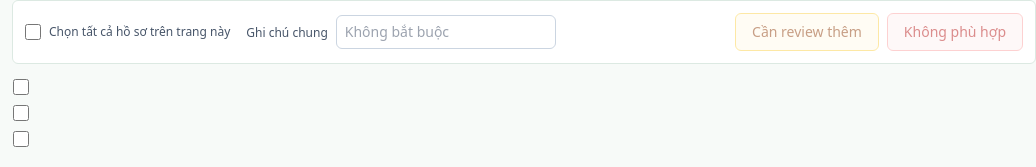
bulk selection UX › never leaves the header checked while zero rows are selected
The width and height of the screenshot is (1036, 167).
Click the checkbox with test id "bulk-select-all". click: x=33, y=32
box: top-left (25, 24), bottom-right (41, 40)
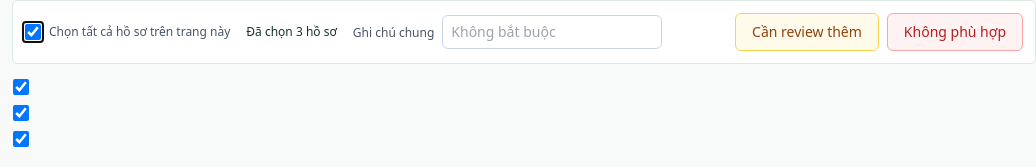
Click the checkbox named "Chọn hồ sơ 00000001". click: x=21, y=87
box: top-left (13, 79), bottom-right (29, 95)
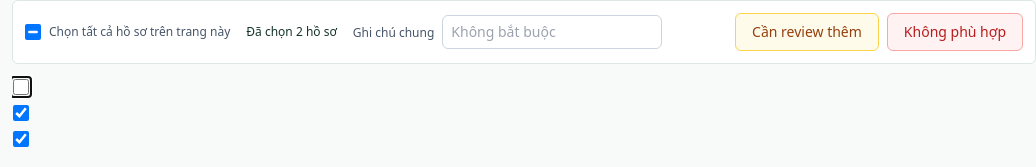
Click the checkbox named "Chọn hồ sơ 00000002". click: x=21, y=113
box: top-left (13, 105), bottom-right (29, 121)
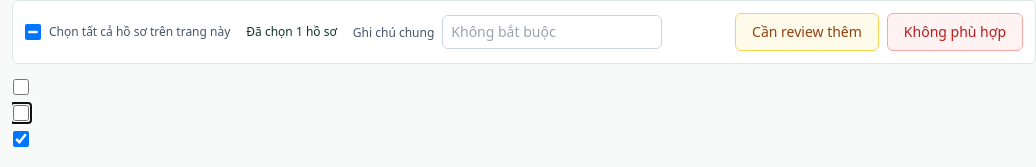
Click the checkbox named "Chọn hồ sơ 00000003". click: x=21, y=139
box: top-left (13, 131), bottom-right (29, 147)
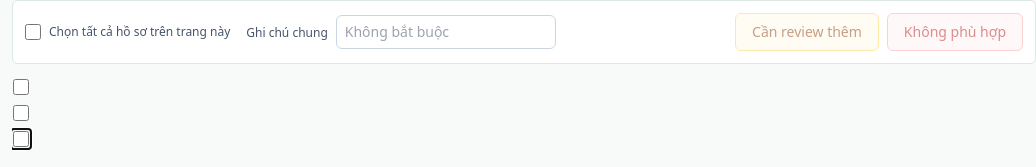
Now the checkbox labelled "Chọn tất cả hồ sơ trên trang này" is not checked, box top-left (25, 24), bottom-right (41, 40)
Now the text with test id "bulk-selected-count" is gone
